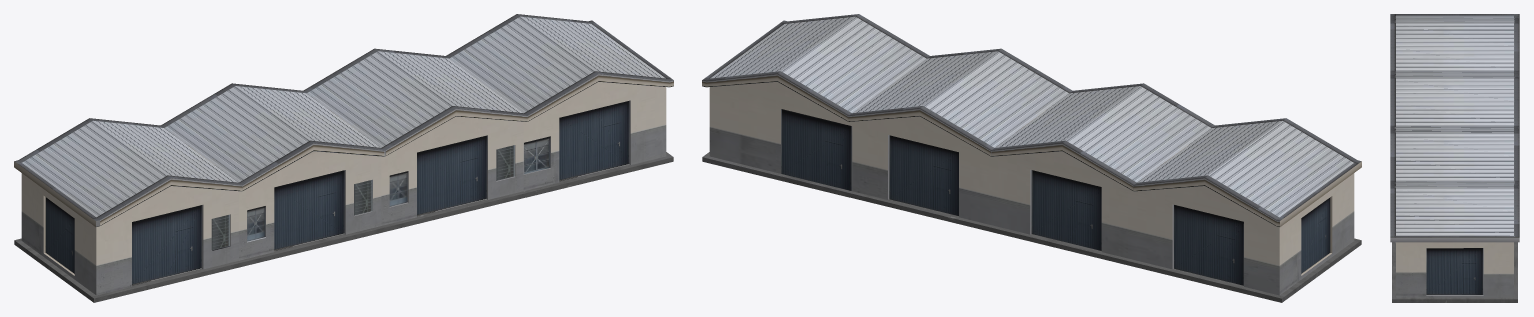
The model's file is SM_WarehouseExterior.glb.
3 renders of one model, left to right at view 1: azimuth 30°, elevation 25°; view 2: azimuth 150°, elevation 25°; view 3: azimuth 270°, elevation 25°, orthographic. The views are drawn at different scales.
Visible parts, largest first — view 1: SM_WarehouseExterior; view 2: SM_WarehouseExterior; view 3: SM_WarehouseExterior.
Part boxes in pixels (bbox=[...]): SM_WarehouseExterior: bbox=[14, 14, 673, 302]; SM_WarehouseExterior: bbox=[702, 14, 1361, 302]; SM_WarehouseExterior: bbox=[1390, 14, 1519, 302].
Size of the model in its own units: 28 by 4.95 by 6.84.
Materials: 1 (1 with a texture image).
